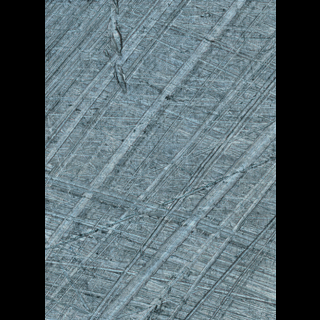d: (99, 0, 131, 97)
